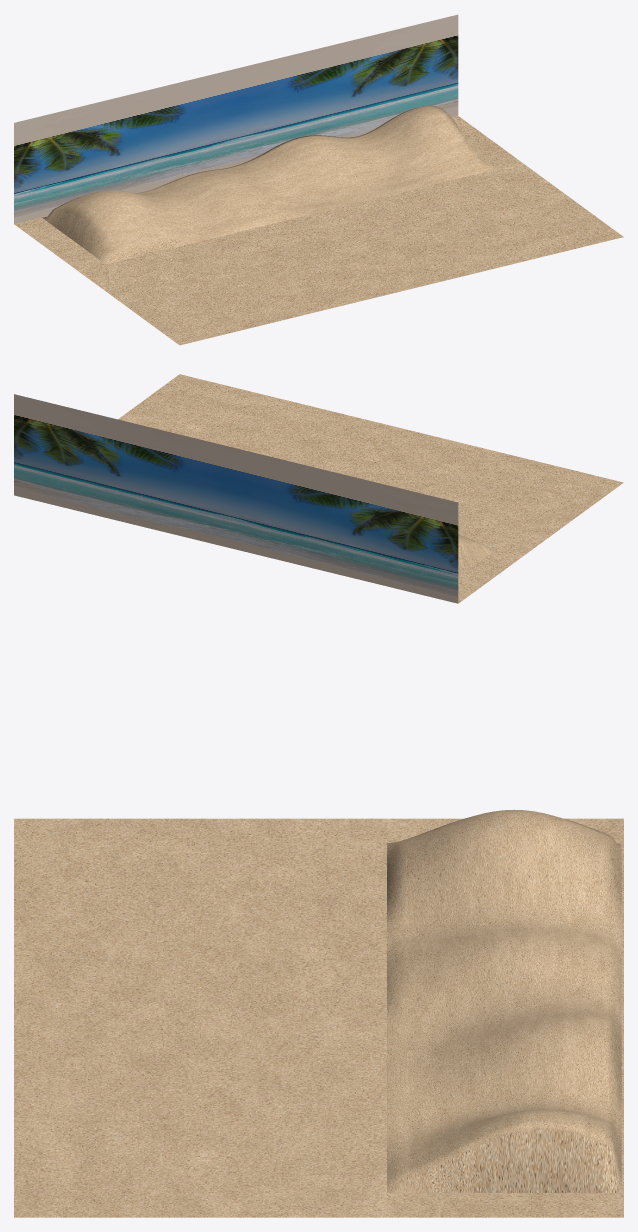
File: Level_Beach.fbx
The picture shows the model from 3 angles, top to bottom: view 1: azimuth 30°, elevation 25°; view 2: azimuth 150°, elevation 25°; view 3: azimuth 270°, elevation 25°; orthographic projection. The views are drawn at different scales.
Visible parts, largest first — view 1: Floor, Background, pPlane1; view 2: Background, Floor, pPlane1; view 3: Floor, pPlane1.
Boxes of the visible parts, box(x1,y1,x2,y2) form: Floor: box(14, 116, 623, 345); Background: box(14, 14, 458, 223); pPlane1: box(42, 105, 494, 264); Background: box(14, 394, 458, 603); Floor: box(118, 374, 623, 603); pPlane1: box(458, 534, 494, 576); Floor: box(14, 818, 623, 1217); pPlane1: box(387, 809, 621, 1192).
Bounding box in the file's own units: 628 × 137 × 405.
